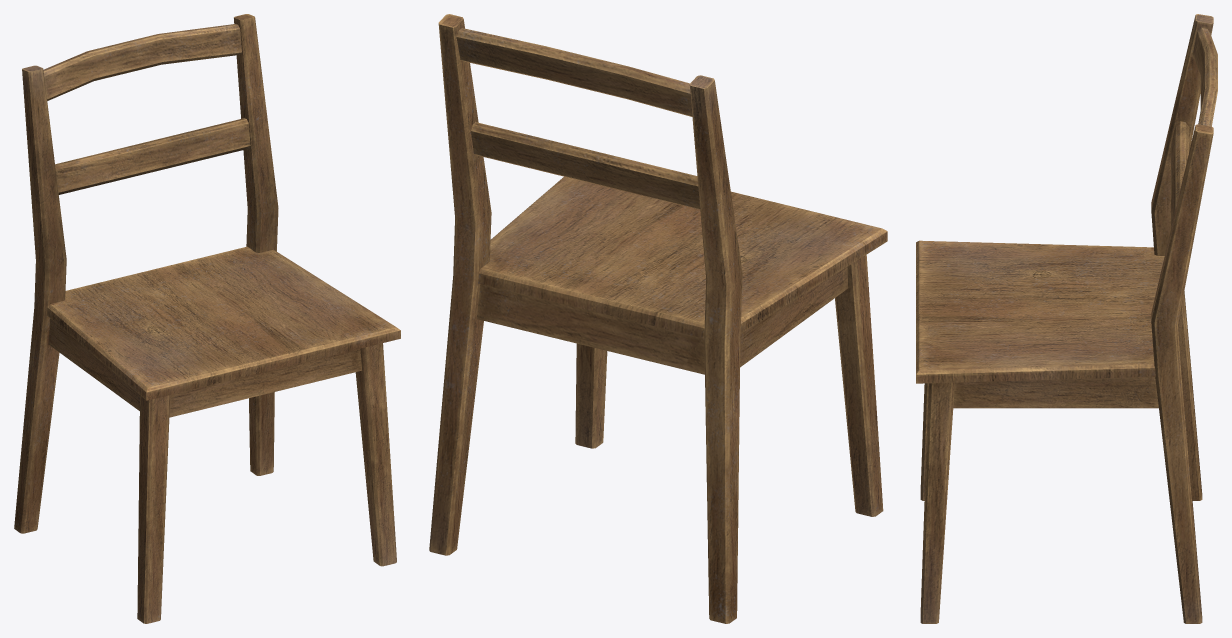
The model's file is chair_wood.FBX.
3 renders of one model, left to right at view 1: azimuth 30°, elevation 25°; view 2: azimuth 150°, elevation 25°; view 3: azimuth 270°, elevation 25°, orthographic. The views are drawn at different scales.
Parts seen in each view (by area): view 1: chair_wood; view 2: chair_wood; view 3: chair_wood.
Boxes of the visible parts, box(x1,y1,x2,y2) form: chair_wood: box(14, 14, 400, 623); chair_wood: box(429, 14, 887, 623); chair_wood: box(916, 14, 1217, 623).
Bounding box in the file's own units: 47.73 × 81.5 × 45.95.
